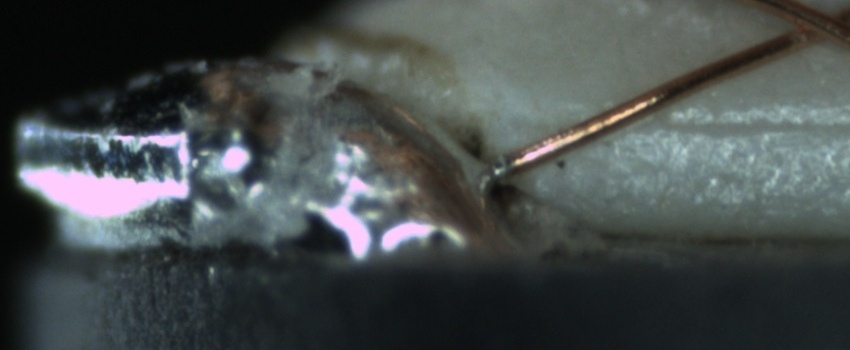CL: (767, 3, 847, 52)
DL: (611, 91, 849, 159)
